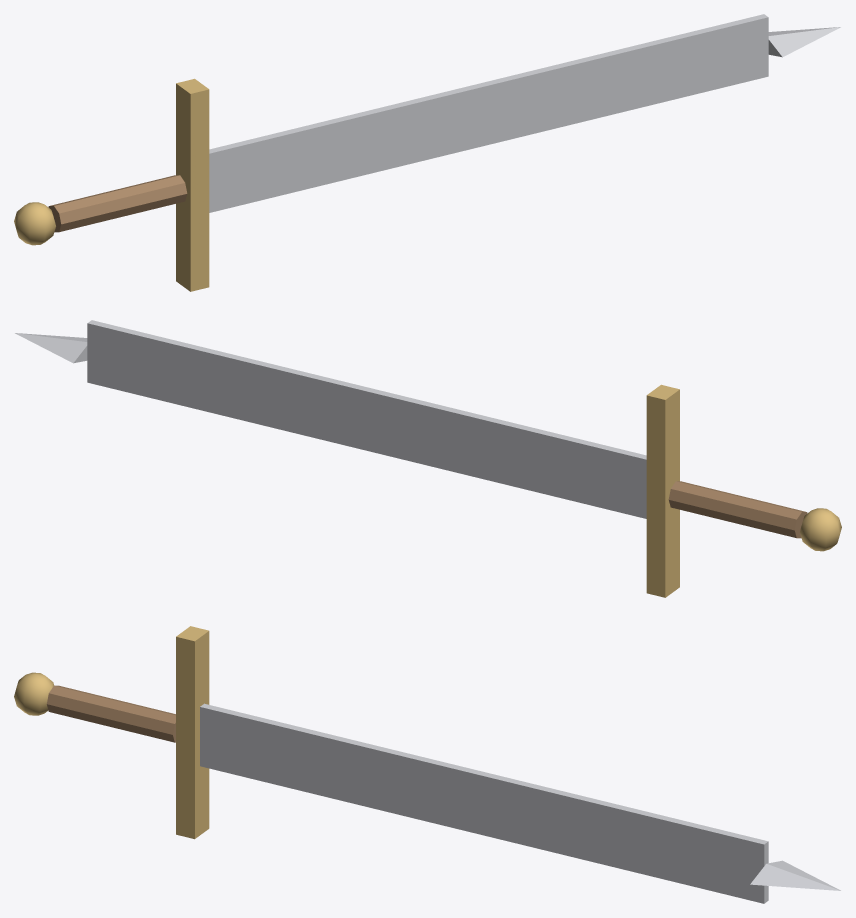
File: sword.glb
The picture shows the model from 3 angles, top to bottom: view 1: azimuth 30°, elevation 25°; view 2: azimuth 150°, elevation 25°; view 3: azimuth 330°, elevation 25°; orthographic projection.
Visible parts, largest first — view 1: blade, guard, grip, pommel, tip; view 2: blade, guard, grip, pommel, tip; view 3: blade, guard, grip, tip, pommel.
Boxes of the visible parts, x1,y1,x2,y2 form: blade: (209,14,768,212); guard: (176,78,209,291); grip: (48,175,187,232); pommel: (14,202,55,245); tip: (768,27,840,57); blade: (87,320,646,518); guard: (646,384,679,597); grip: (668,481,807,538); pommel: (800,508,841,551); tip: (15,333,87,363); blade: (200,703,768,903); guard: (176,626,209,839); grip: (46,685,175,742); tip: (750,860,840,890); pommel: (14,672,54,715).
Bounding box in the file's own units: 1.31 × 0.3 × 0.09.
